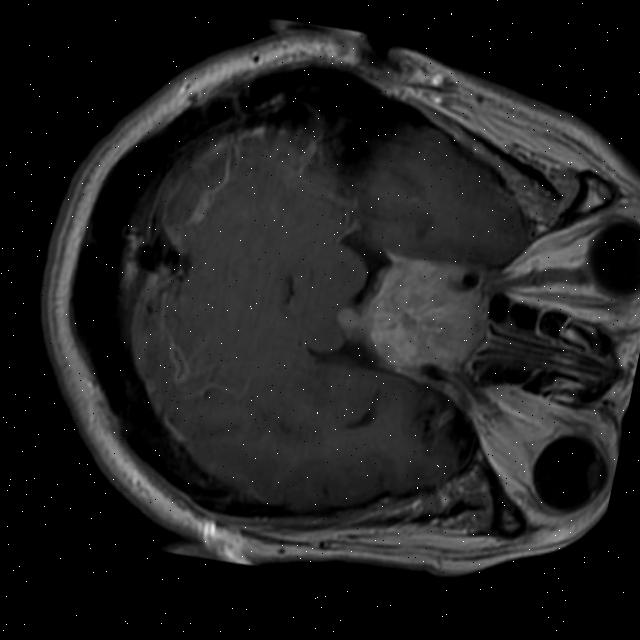Pituitary: (360, 243, 499, 387)
